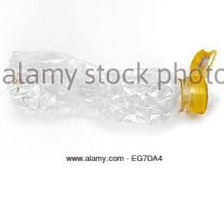bottle: (1, 48, 222, 133)
